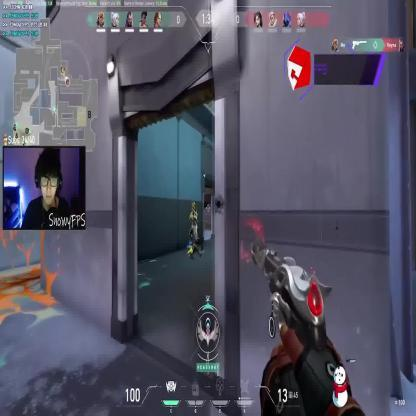enemy: (188, 202, 200, 248)
enemy_head: (191, 203, 196, 213)
